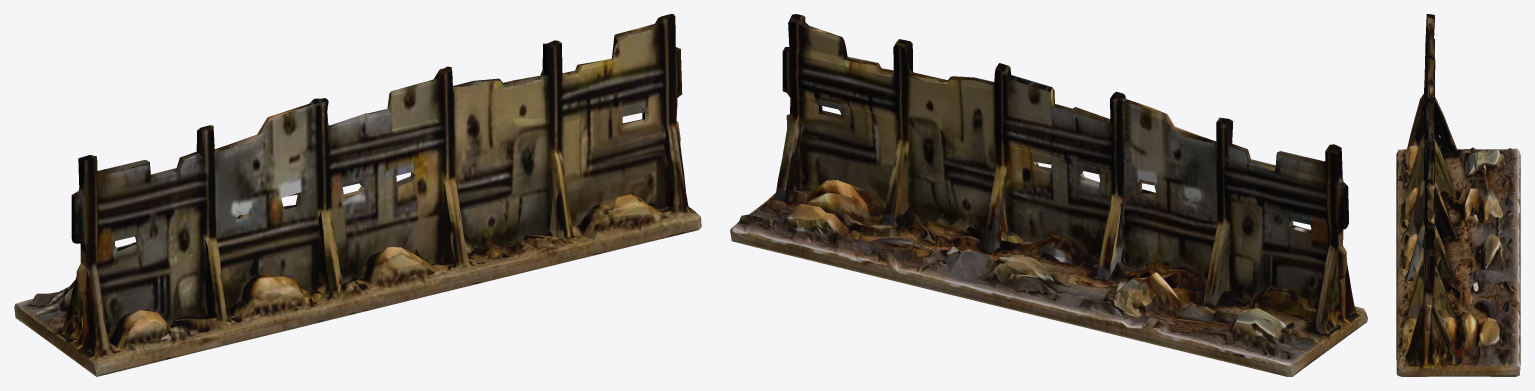
The model's file is outpost-gate-fence.glb.
The picture shows the model from 3 angles, left to right: view 1: azimuth 30°, elevation 25°; view 2: azimuth 150°, elevation 25°; view 3: azimuth 270°, elevation 25°; orthographic projection. The views are drawn at different scales.
Visible parts, largest first — view 1: tmppy4rfys2.ply; view 2: tmppy4rfys2.ply; view 3: tmppy4rfys2.ply.
Part boxes in pixels (bbox=[...]): tmppy4rfys2.ply: bbox=[14, 14, 701, 376]; tmppy4rfys2.ply: bbox=[730, 14, 1367, 376]; tmppy4rfys2.ply: bbox=[1396, 14, 1520, 376].
Bounding box in the file's own units: 5 × 1.6 × 1.2.
Materials: 1 (1 with a texture image).
